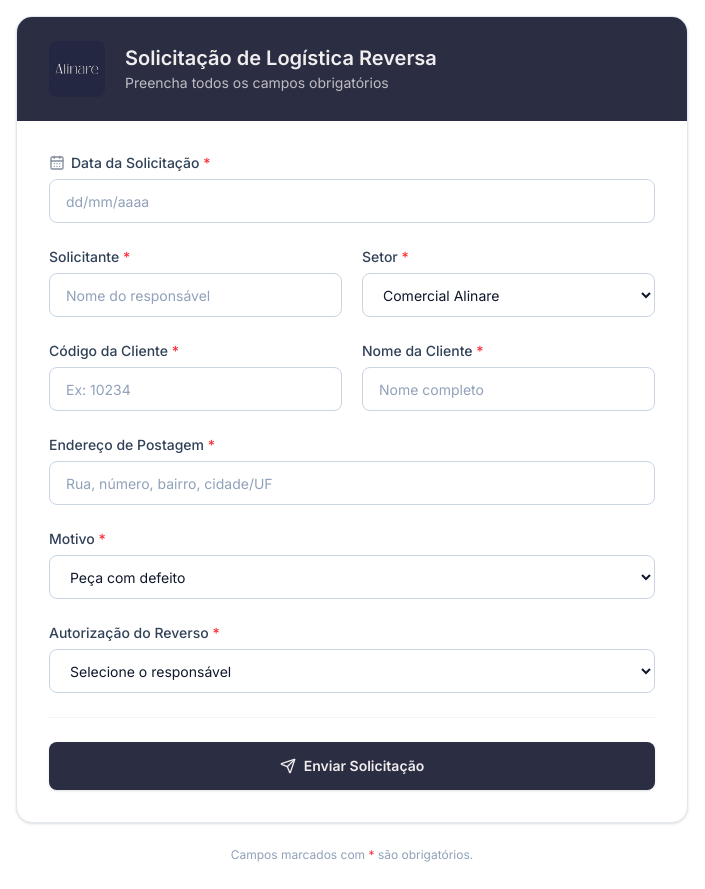
Test: ReverseLogisticsForm — validação › motivo "Outros": revela textarea de justificativa
Select "Outros" in the dropdown labelled "Motivo *": (352, 577) [49,555,655,599]
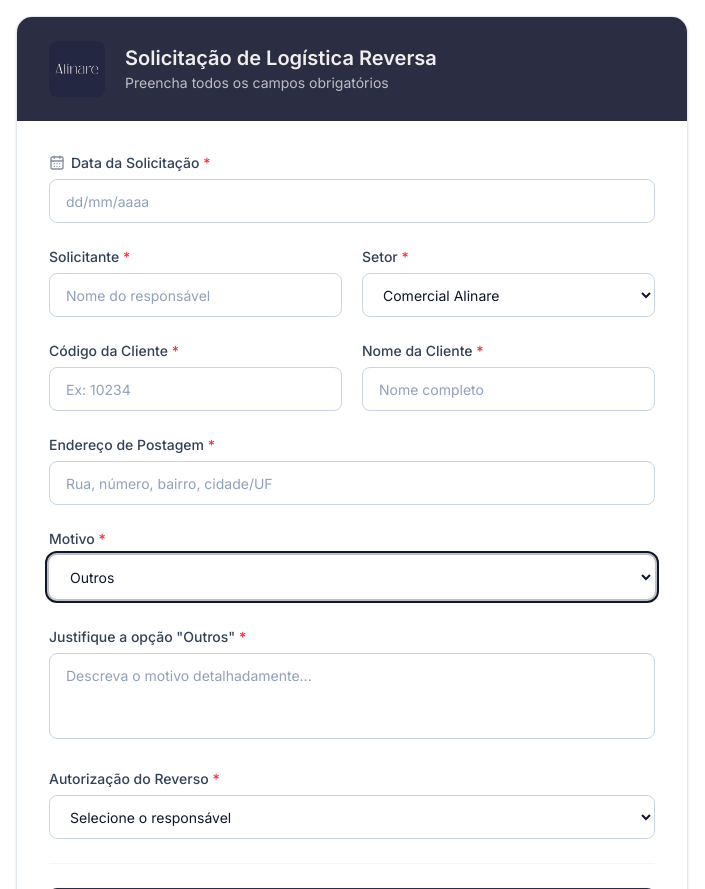
Now the text box labelled "Justifique a opção \"Outros\" *" is shown, box [49,653,655,739]
